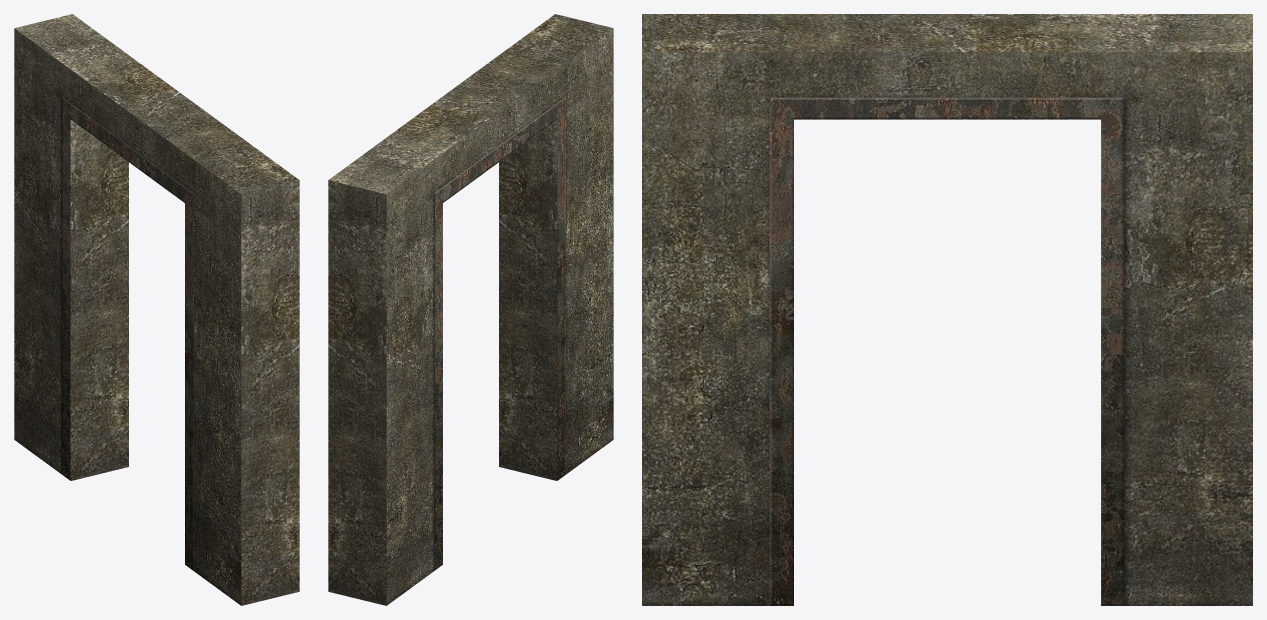
Rendered from DoorWay.fbx.
3 views of the same model, side by side, from view 1: azimuth 30°, elevation 25°; view 2: azimuth 150°, elevation 25°; view 3: azimuth 270°, elevation 25° (orthographic). The views are drawn at different scales.
Parts seen in each view (by area): view 1: Cube; view 2: Cube; view 3: Cube.
Part boxes in pixels (x1,y1,x2,y2): Cube: (14, 14, 299, 605); Cube: (328, 14, 613, 605); Cube: (642, 14, 1252, 605).
Bounding box in the file's own units: 29.67 × 200 × 200.
